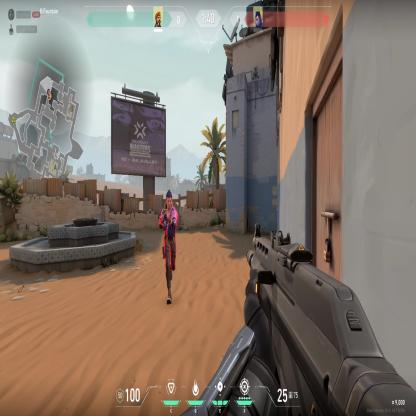enemy: (158, 187, 181, 309)
